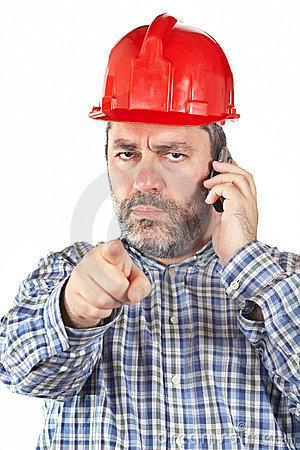helmet: (87, 13, 242, 128)
